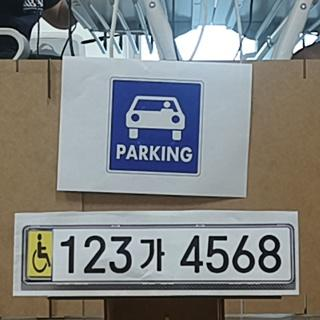disabled: (25, 228, 55, 282)
plate: (21, 224, 295, 290)
